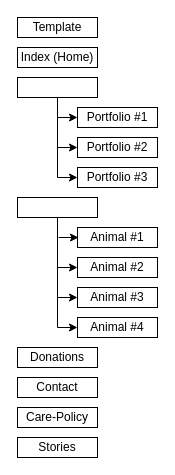
Image size: 175x475. Some labels were removed from this diagram. Each missing label, with the centre of its shape:
"About" goes at point 57,87.
"Adoptions" goes at point 57,207.
